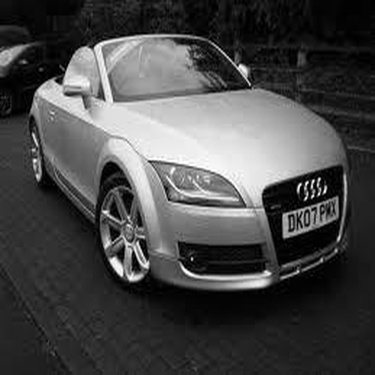car: (19, 23, 360, 306)
